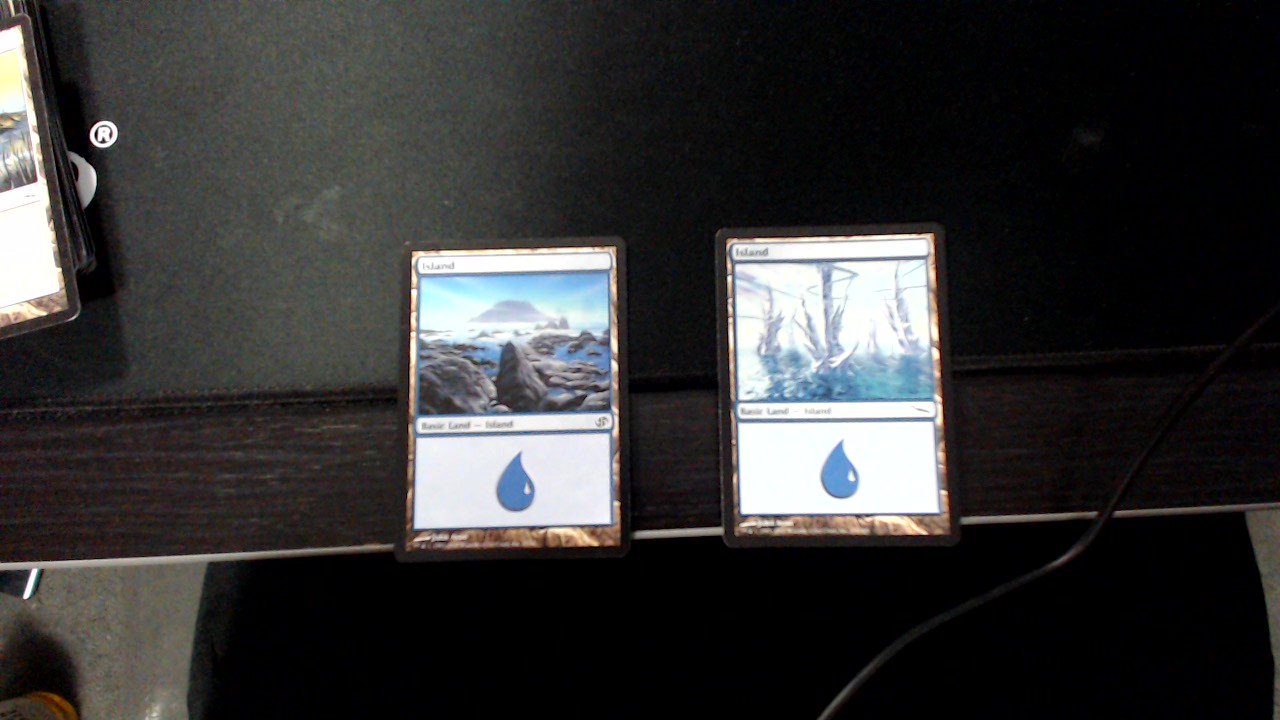MTG Card: (708, 221, 967, 550), (397, 236, 634, 563)
